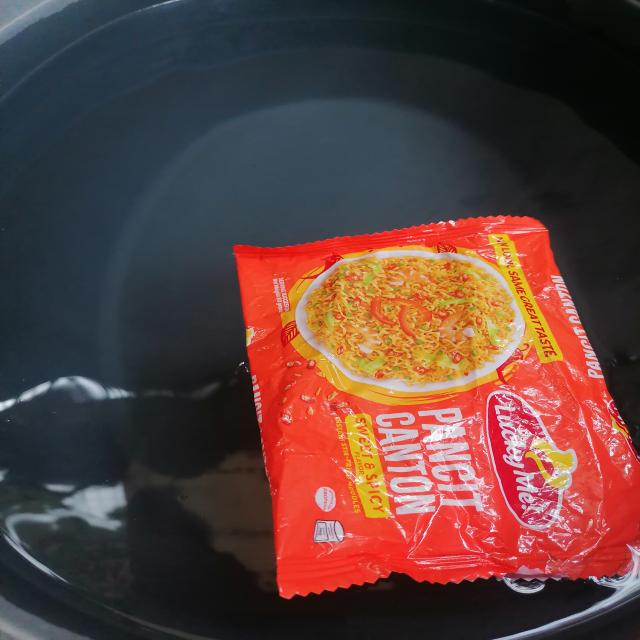Plastic Wrapper: (234, 216, 640, 598)
